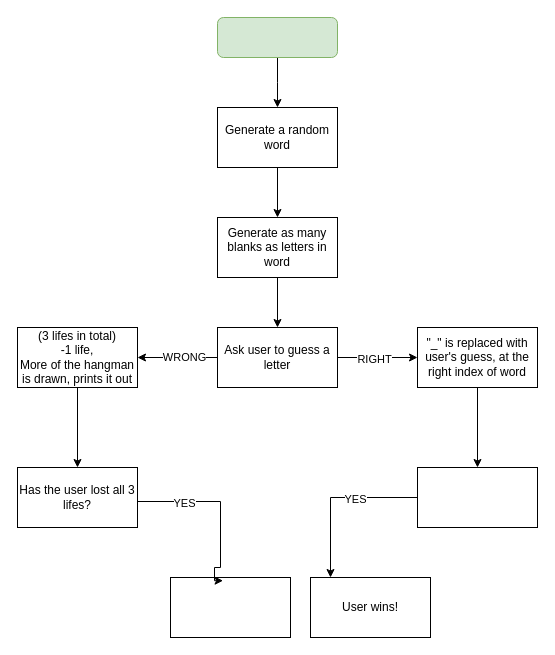
This 555x655 diagram has some shape labels left out. The box of each missing label's shape, as (x1, y1, x2, y2) in pixels:
Are all the blanks filled?: (416, 466, 538, 528)
Game Over: (170, 576, 290, 638)
Start: (216, 16, 338, 58)
